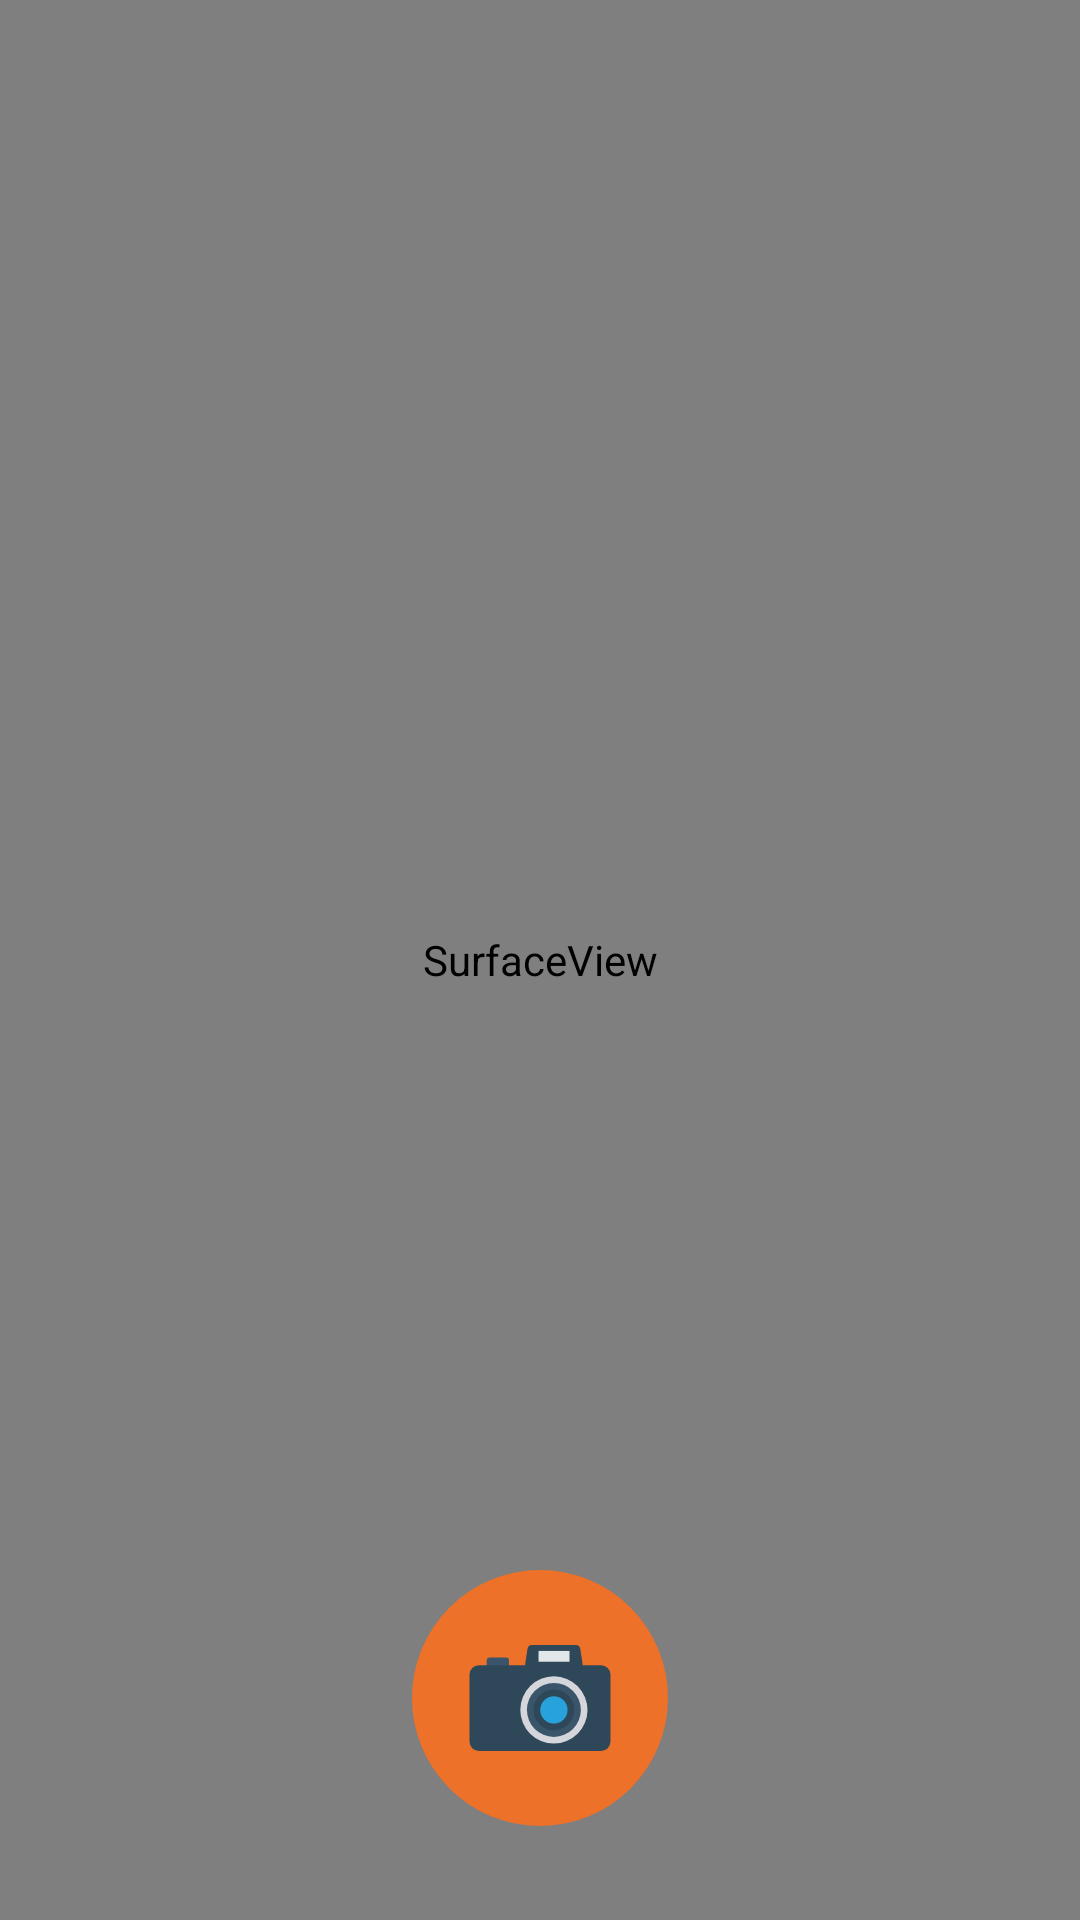

Named icons in this screenshot (1080px×1920px) and their centers, (x,y):
camera capture: (540,1698)
